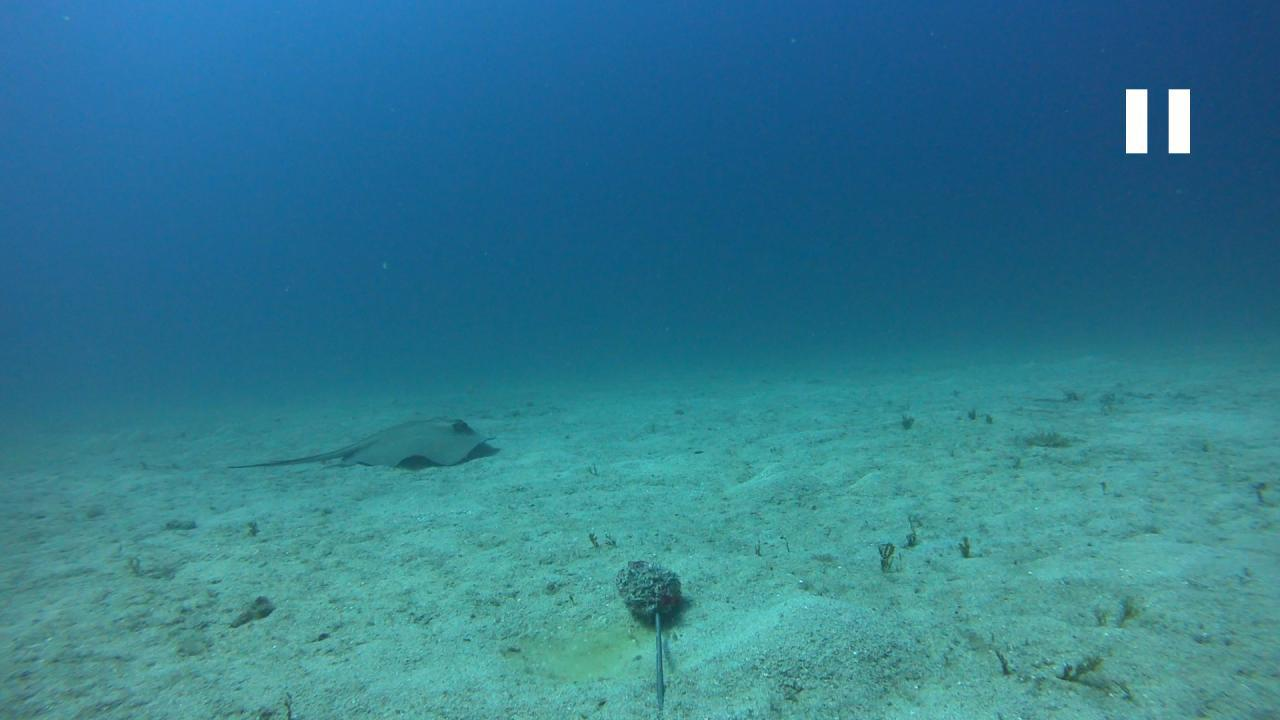dasyatis: (225, 416, 498, 468)
